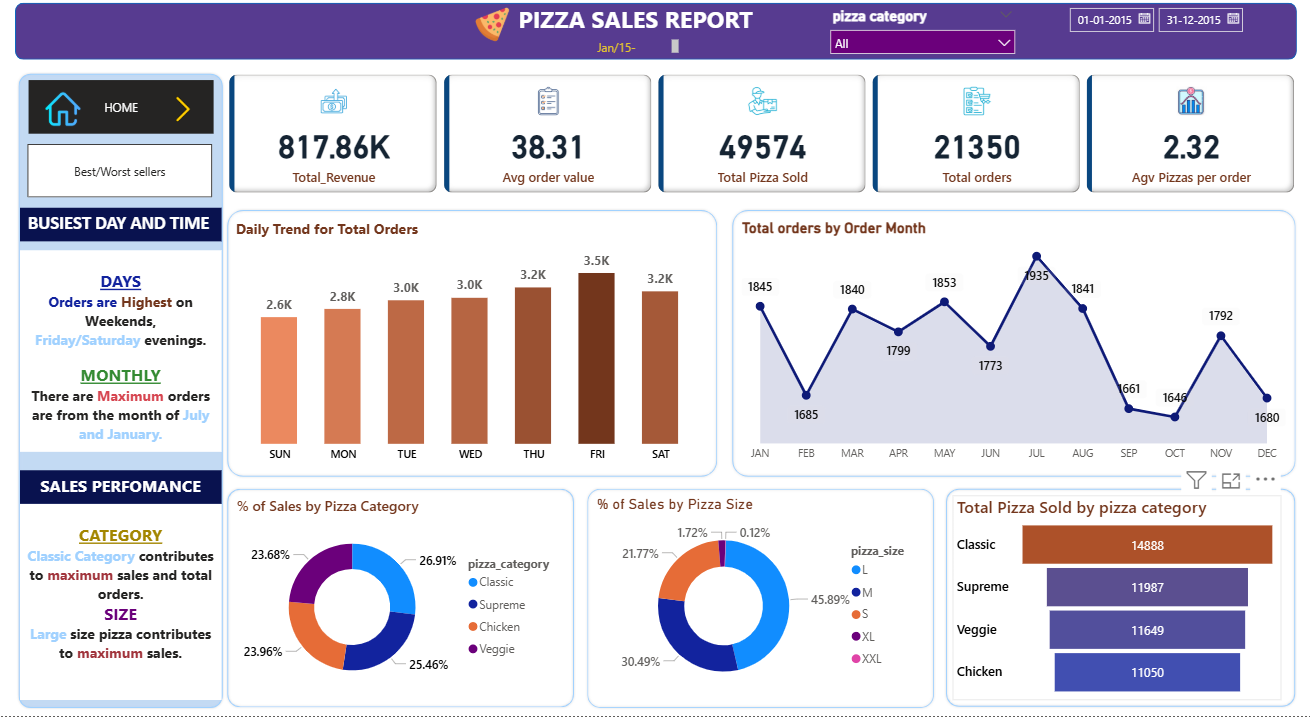

What the dashboard file says about the page in this screenshot:
{"tool":"powerbi","page":{"name":"HOME","canvas":[1500,820],"ordinal":0},"visuals":[{"type":"shape","box":[17.5,3.8,1465,65],"z":0},{"type":"cardVisual","fields":{"Data":["pizza_sales.Total_Revenue","pizza_sales.Avg order value","pizza_sales.Total Pizza Sold","pizza_sales.Total orders","pizza_sales.Agv Pizzas per order"]},"box":[256.7,81.7,1230,145],"z":1000},{"type":"textbox","box":[582.5,0,287.5,50],"z":2000},{"type":"textbox","box":[677.5,41.2,103.8,27.5],"z":3000},{"type":"image","box":[531.2,3.8,62.5,50],"z":4000},{"type":"shape","box":[256.7,238.3,565,310],"z":5000},{"type":"columnChart","title":"Daily Trend for  Total Orders","fields":{"Category":["pizza_sales.Order day"],"Y":["pizza_sales.Total orders"]},"box":[264.3,251.4,547.1,287.1],"z":6000},{"type":"shape","box":[18.6,82.9,238.6,730],"z":7000},{"type":"shape","box":[834.4,238.9,648.9,310],"z":8000},{"type":"areaChart","fields":{"Category":["pizza_sales.Order Month"],"Y":["pizza_sales.Total orders"]},"box":[842.9,251.4,631.4,285.7],"z":9000},{"type":"shape","box":[257.1,557.1,401.4,255],"z":10000},{"type":"shape","box":[668.6,557.1,401.4,255.7],"z":11000},{"type":"shape","box":[1078.6,557.1,404.3,254.3],"z":12000},{"type":"donutChart","title":"% of Sales by Pizza Category","fields":{"Category":["pizza_sales.pizza_category"],"Y":["pizza_sales.Total_Revenue"]},"box":[265.7,567.1,382.9,234.3],"z":13000},{"type":"donutChart","title":"% of Sales by Pizza Size","fields":{"Category":["pizza_sales.pizza_size"],"Y":["pizza_sales.Total_Revenue"]},"box":[677.1,567.1,380,234.3],"z":14000},{"type":"funnel","title":"Total Pizza Sold by pizza category","fields":{"Category":["pizza_sales.pizza_category"],"Y":["pizza_sales.Total Pizza Sold"]},"box":[1088.6,567.1,375.7,234.3],"z":15000},{"type":"textbox","box":[22.5,238.8,230,38.8],"z":16000},{"type":"textbox","box":[22.9,287.1,230,230],"z":17000},{"type":"textbox","box":[22.9,538.6,230,38.6],"z":18000},{"type":"textbox","box":[22.9,577.1,230,224.3],"z":19000},{"type":"slicer","fields":{"Values":["pizza_sales.pizza_category"]},"box":[938.6,4.3,231.4,64.3],"z":20000},{"type":"slicer","fields":{"Values":["pizza_sales.order_date"]},"box":[1210,0,225.7,68.6],"z":21000},{"type":"pageNavigator","box":[0,177.1,400,50],"z":22000},{"type":"pageNavigator","box":[0,104.3,400,50],"z":23000},{"type":"pageNavigator","box":[32.9,92.9,211.4,61.4],"z":24000},{"type":"pageNavigator","box":[31.4,165.7,211.4,61.4],"z":25000},{"type":"image","box":[190,104.3,38.6,42.9],"z":26000},{"type":"image","box":[47.1,98.6,50,54.3],"z":27000}]}

Visuals, with their boxes in screenshot pixels (x1, y1, x2, y2), scaled from the page's 1500x820 canvas onto the 1310x717 screenshot:
shape: l=15, t=3, r=1295, b=60
cardVisual - pizza_sales.Total_Revenue x pizza_sales.Avg order value: l=224, t=71, r=1298, b=198
textbox: l=509, t=0, r=760, b=44
textbox: l=592, t=36, r=682, b=60
image: l=464, t=3, r=518, b=47
shape: l=224, t=208, r=718, b=479
"Daily Trend for  Total Orders" columnChart: l=231, t=220, r=709, b=471
shape: l=16, t=72, r=225, b=711
shape: l=729, t=209, r=1295, b=480
areaChart - pizza_sales.Order Month x pizza_sales.Total orders: l=736, t=220, r=1288, b=470
shape: l=225, t=487, r=575, b=710
shape: l=584, t=487, r=934, b=711
shape: l=942, t=487, r=1295, b=709
"% of Sales by Pizza Category" donutChart: l=232, t=496, r=566, b=701
"% of Sales by Pizza Size" donutChart: l=591, t=496, r=923, b=701
"Total Pizza Sold by pizza category" funnel: l=951, t=496, r=1279, b=701
textbox: l=20, t=209, r=221, b=243
textbox: l=20, t=251, r=221, b=452
textbox: l=20, t=471, r=221, b=505
textbox: l=20, t=505, r=221, b=701
slicer - pizza_sales.pizza_category: l=820, t=4, r=1022, b=60
slicer - pizza_sales.order_date: l=1057, t=0, r=1254, b=60
pageNavigator: l=0, t=155, r=349, b=199
pageNavigator: l=0, t=91, r=349, b=135
pageNavigator: l=29, t=81, r=213, b=135
pageNavigator: l=27, t=145, r=212, b=199
image: l=166, t=91, r=200, b=129
image: l=41, t=86, r=85, b=134
